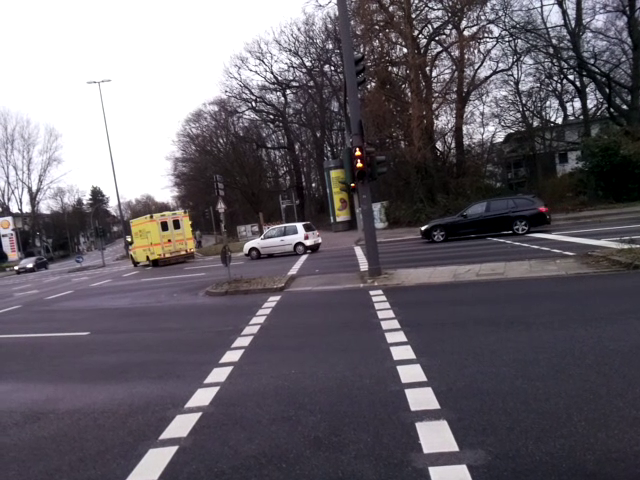car: (419, 200, 551, 239), (241, 214, 323, 259)
